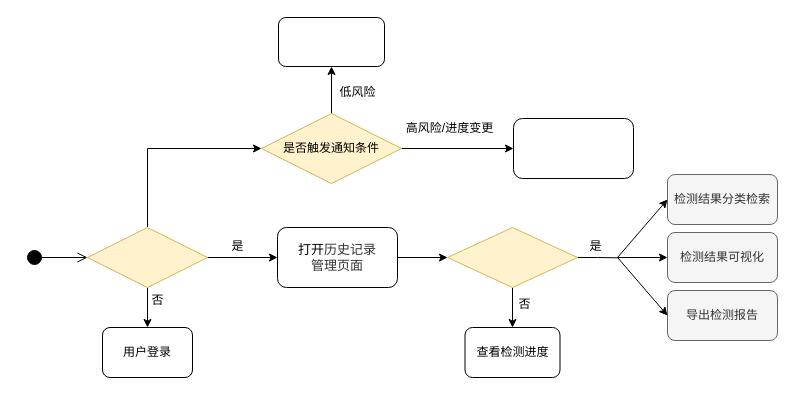
The diagram is 795 pixels wide and 395 high, and some of its shapes have lost their labels. Each missing label, with the centre of its shape:
"仅更新任务中心" belongs at pixel 331 41.
"推送邮件/站内信" belongs at pixel 573 148.
"检测是否完成" belongs at pixel 512 257.
"用户是否登录" belongs at pixel 147 257.
